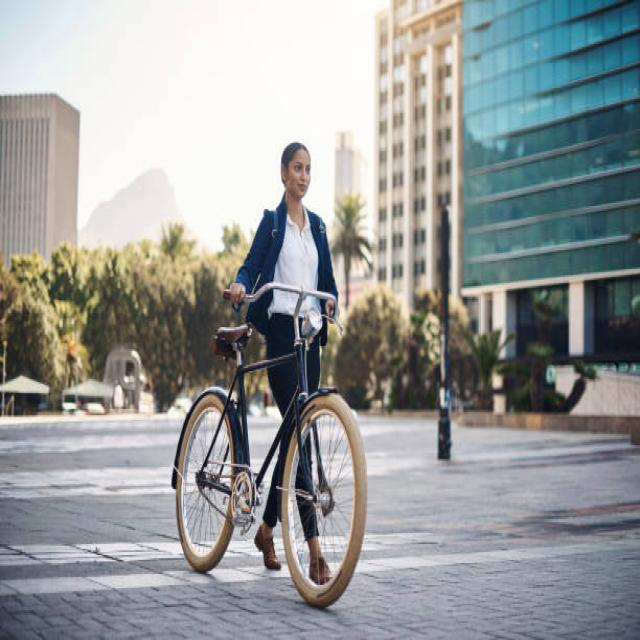bicycle: (172, 143, 366, 606)
